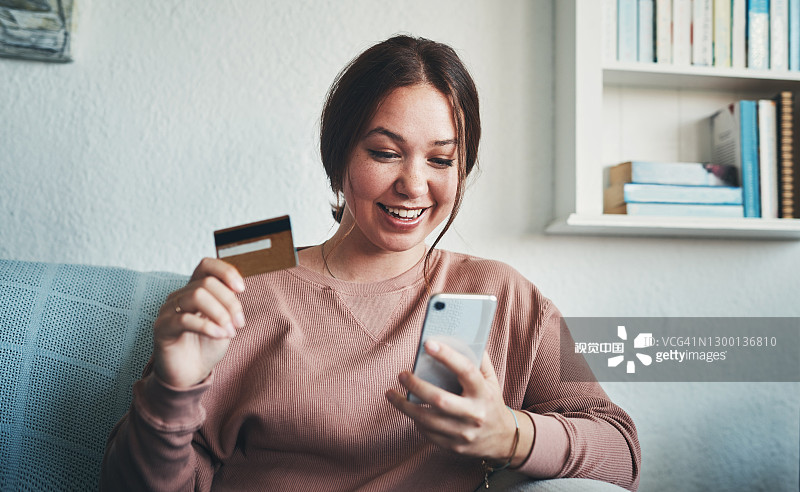no-phone: (132, 245, 288, 399)
reading: (380, 287, 535, 473)
